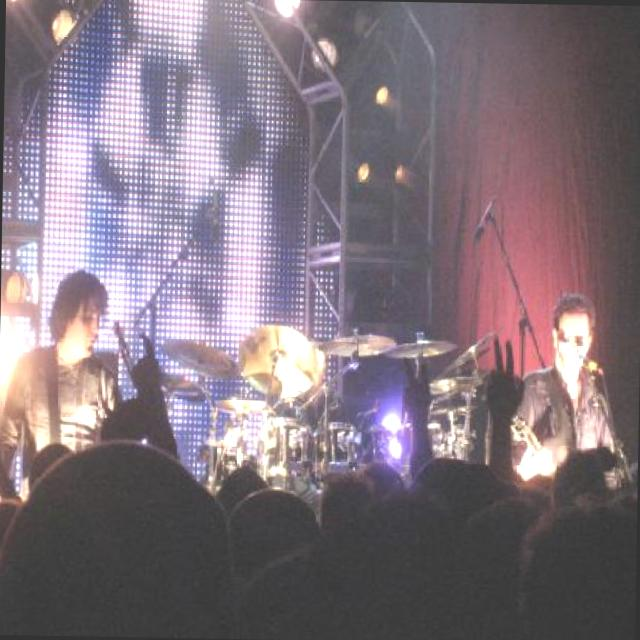Person: (0, 323, 639, 640), (0, 265, 127, 510), (506, 291, 623, 487)
